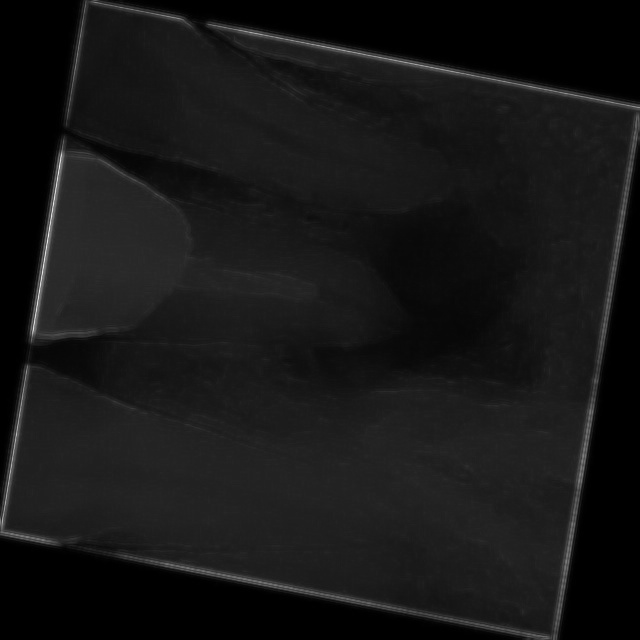Class 1- complete endodontic treatment: (22, 92, 552, 490)
